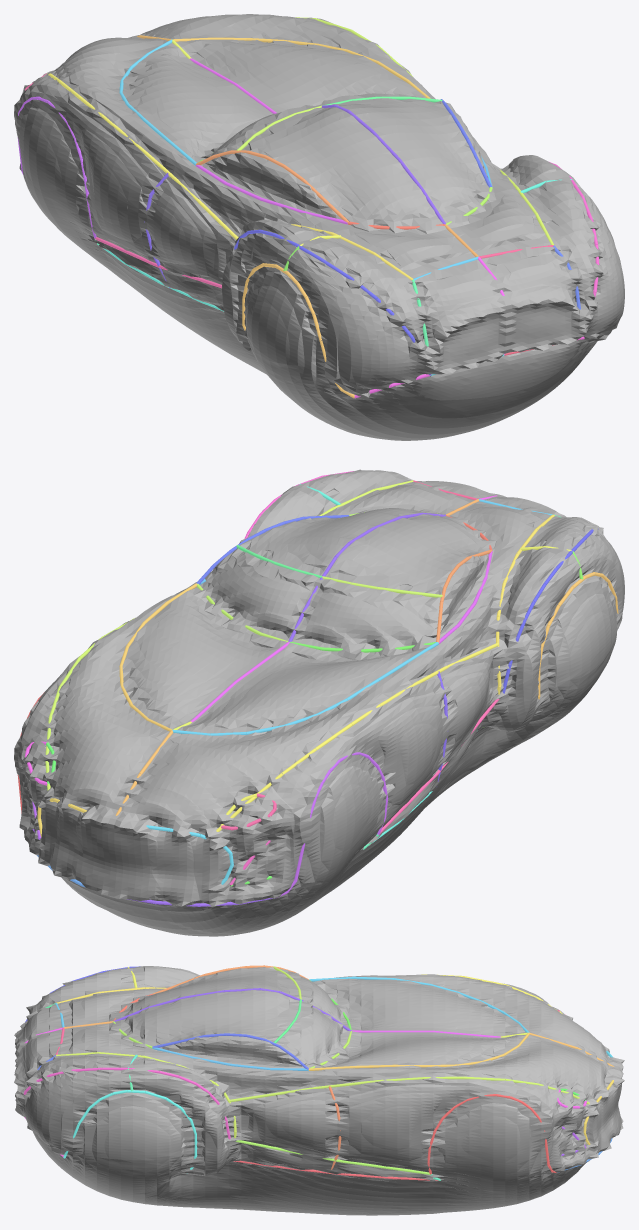
File: ils_roadster.gltf
The picture shows the model from 3 angles, top to bottom: view 1: azimuth 30°, elevation 25°; view 2: azimuth 150°, elevation 25°; view 3: azimuth 270°, elevation 25°; orthographic projection. The views are drawn at different scales.
Bounding box in the file's own units: 0.4378 × 0.3529 × 0.9135.
